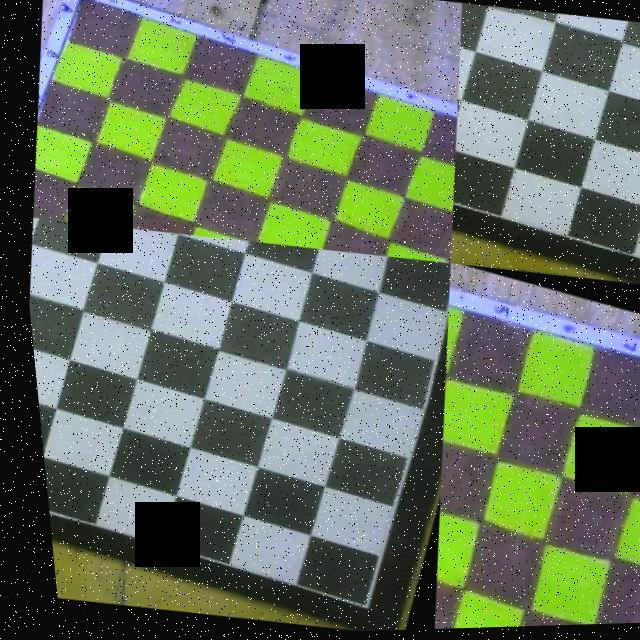chess-table-corners: (354, 604, 364, 612), (442, 266, 450, 274), (468, 6, 477, 10), (78, 0, 89, 1)
